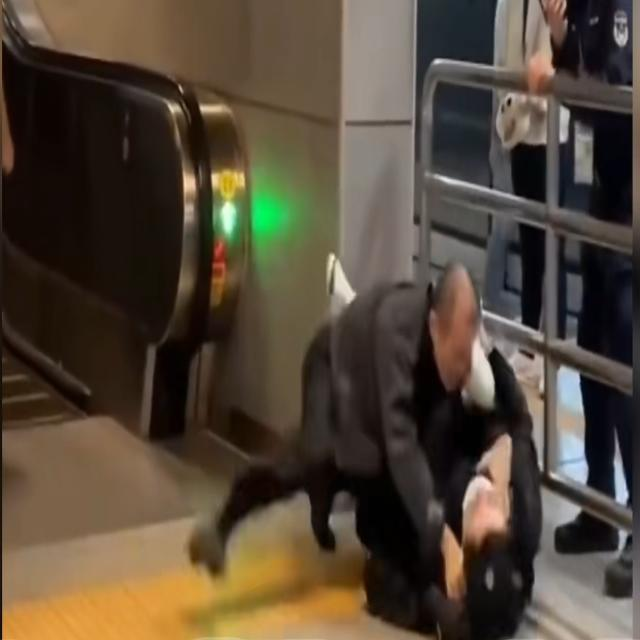fight: (328, 252, 546, 630)
nofight: (486, 0, 570, 383)
